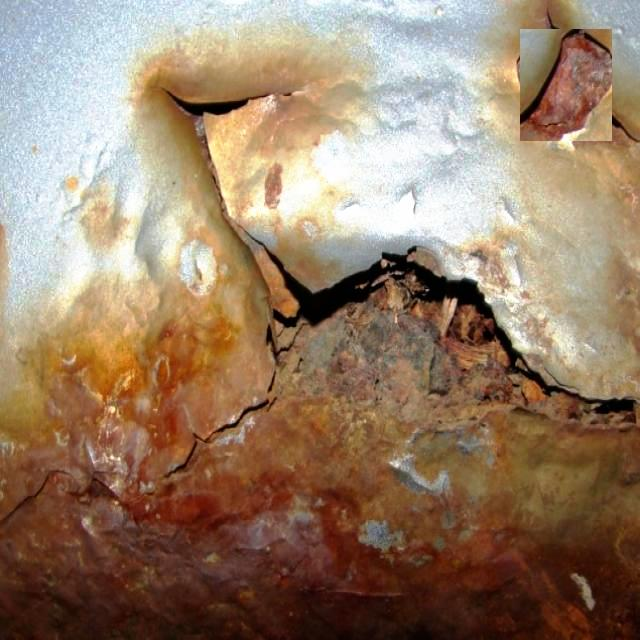Corrosion: (67, 398, 470, 640), (352, 360, 640, 640), (273, 255, 513, 496), (0, 476, 175, 640), (522, 30, 613, 140)
